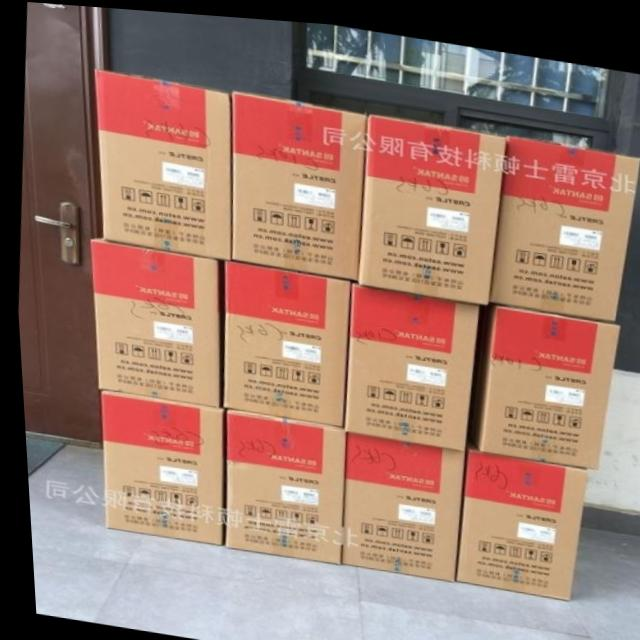box: (354, 108, 504, 297), (485, 129, 640, 311), (226, 88, 366, 276), (461, 292, 616, 460), (93, 68, 230, 256), (337, 277, 475, 443), (87, 236, 216, 404), (216, 258, 348, 421), (448, 434, 584, 592), (332, 426, 460, 574), (217, 407, 342, 558), (96, 387, 217, 542)
